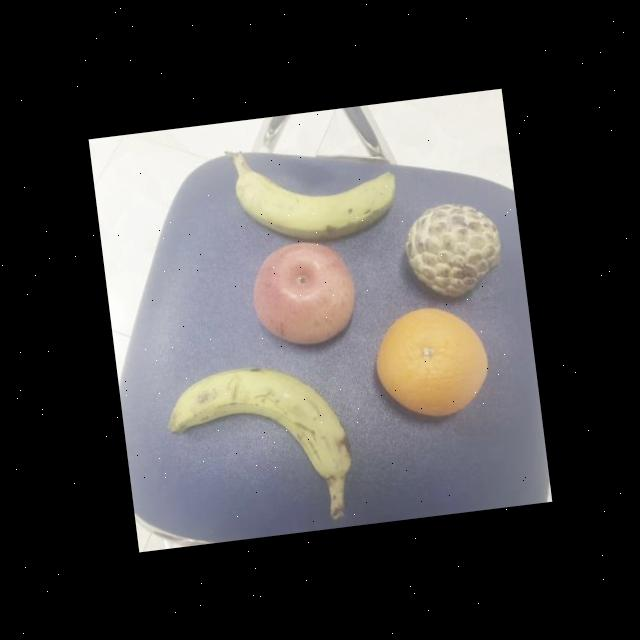Sakya fruit: (399, 195, 506, 302)
apple: (246, 237, 360, 351)
banana: (160, 353, 362, 538), (222, 130, 400, 248)
orange: (368, 300, 494, 420)
